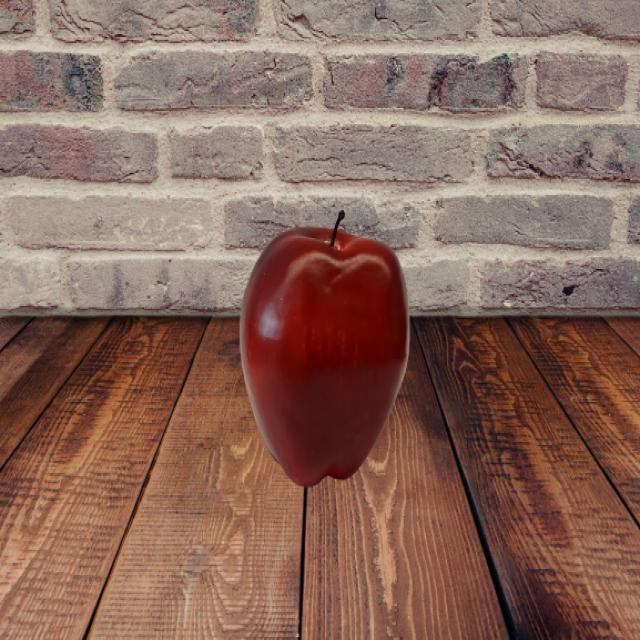apple: (238, 207, 410, 488)
